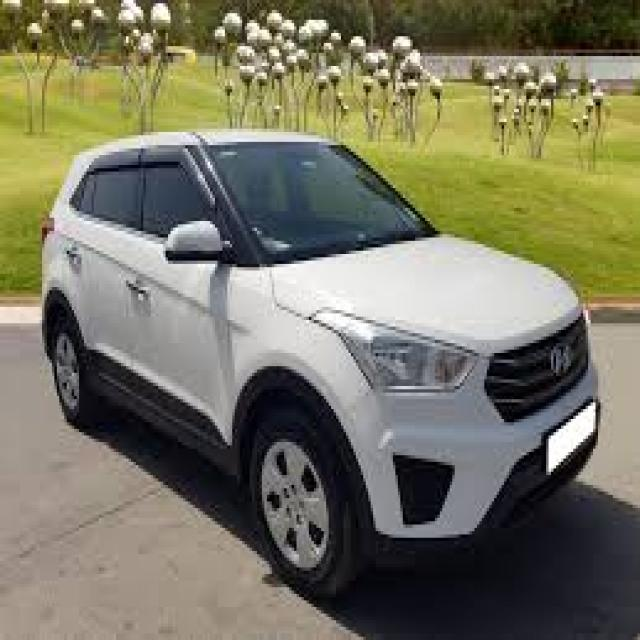SUV: (44, 125, 601, 596)
